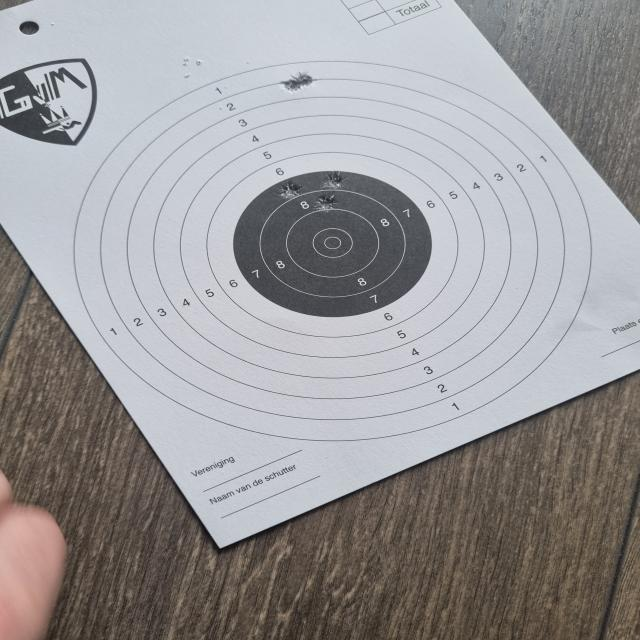2: (292, 72, 318, 87), (278, 79, 300, 92)
7: (320, 171, 347, 189), (277, 182, 302, 198)
9: (308, 195, 338, 212)
Target: (72, 59, 594, 441)
black_contour: (233, 170, 432, 318)
